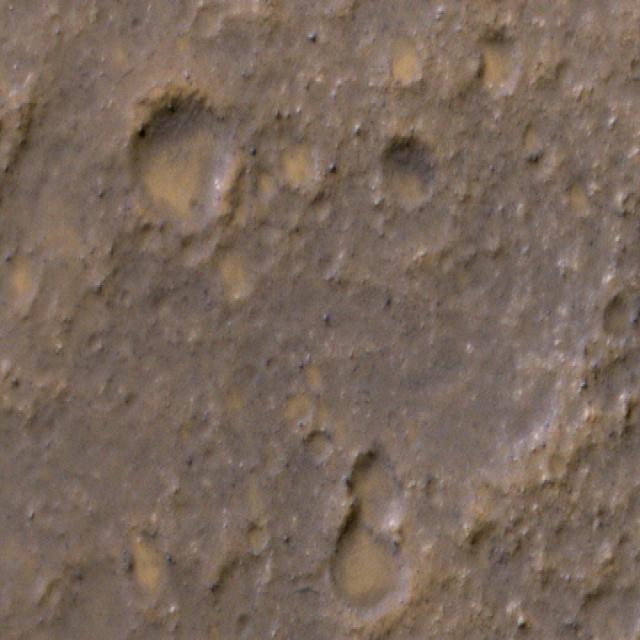Crater: (118, 70, 256, 254), (629, 0, 640, 574)
